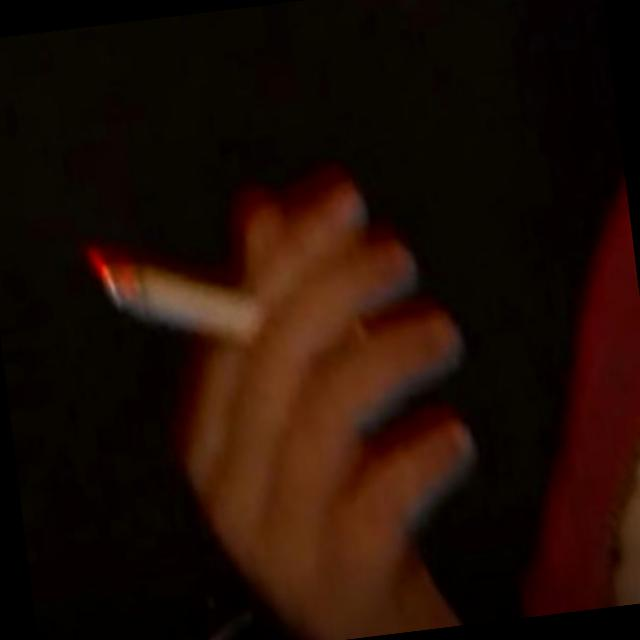smoke: (75, 167, 386, 396)
